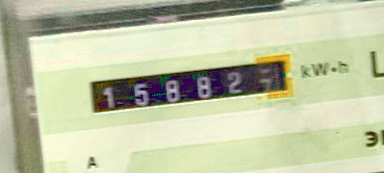1: (102, 84, 118, 110)
2: (227, 68, 245, 95)
5: (132, 81, 151, 107)
7: (258, 75, 274, 92)
8: (163, 77, 183, 103), (195, 72, 213, 99)
screen: (76, 45, 307, 128)
